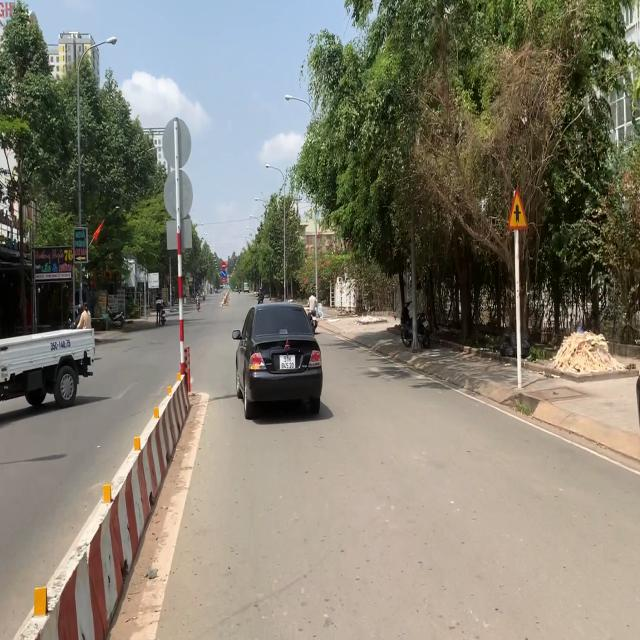Giao voi duong khong uu tien: (506, 188, 528, 231)
